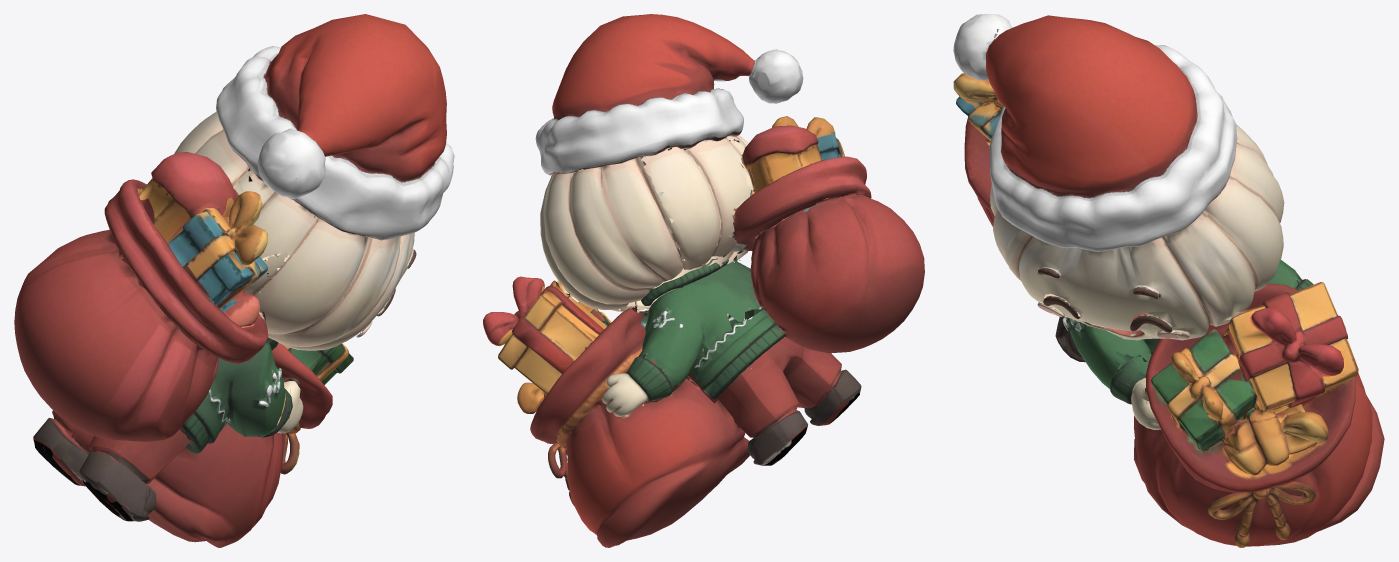
File: christmas character 3d model_Clone1.glb
3 renders of one model, left to right at view 1: azimuth 30°, elevation 25°; view 2: azimuth 150°, elevation 25°; view 3: azimuth 270°, elevation 25°, orthographic. The views are drawn at different scales.
Parts seen in each view (by area): view 1: tripo_part_6, tripo_part_5, tripo_part_2, tripo_part_10, tripo_part_22, tripo_part_14, tripo_part_8, tripo_part_0, tripo_part_20, tripo_part_11, tripo_part_19, tripo_part_1; view 2: tripo_part_22, tripo_part_6, tripo_part_5, tripo_part_10, tripo_part_14, tripo_part_2, tripo_part_8, tripo_part_23, tripo_part_19, tripo_part_21, tripo_part_24, tripo_part_0 (+1 smaller); view 3: tripo_part_6, tripo_part_22, tripo_part_10, tripo_part_23, tripo_part_20, tripo_part_2, tripo_part_8, tripo_part_0, tripo_part_11, tripo_part_14.
Part boxes in pixels (x1,y1,x2,y2): tripo_part_6: (216,14,454,240); tripo_part_5: (14,229,218,442); tripo_part_2: (104,151,268,363); tripo_part_10: (195,129,416,350); tripo_part_22: (146,291,332,547); tripo_part_14: (33,410,190,521); tripo_part_8: (179,337,284,453); tripo_part_0: (257,128,325,199); tripo_part_20: (283,343,353,384); tripo_part_11: (258,381,303,437); tripo_part_19: (174,112,222,153); tripo_part_1: (244,250,287,300); tripo_part_22: (517,306,749,547); tripo_part_6: (535,14,759,175); tripo_part_5: (748,194,924,353); tripo_part_10: (540,135,755,311); tripo_part_14: (712,325,861,465); tripo_part_2: (731,116,871,253); tripo_part_8: (638,251,763,386); tripo_part_23: (483,276,607,394); tripo_part_19: (641,147,720,269); tripo_part_21: (688,308,786,399); tripo_part_24: (602,353,680,416); tripo_part_0: (746,49,803,103); tripo_part_6: (986,15,1237,251); tripo_part_22: (1134,283,1384,547); tripo_part_10: (990,124,1284,340); tripo_part_23: (1223,282,1358,421); tripo_part_20: (1151,329,1256,450); tripo_part_2: (953,73,1003,214); tripo_part_8: (1062,260,1301,389); tripo_part_0: (953,14,1012,80); tripo_part_11: (1110,356,1160,429); tripo_part_14: (1055,288,1227,362).
Bounding box in the file's own units: 0.8053 × 1 × 0.7082.
24 materials, 24 textured.
